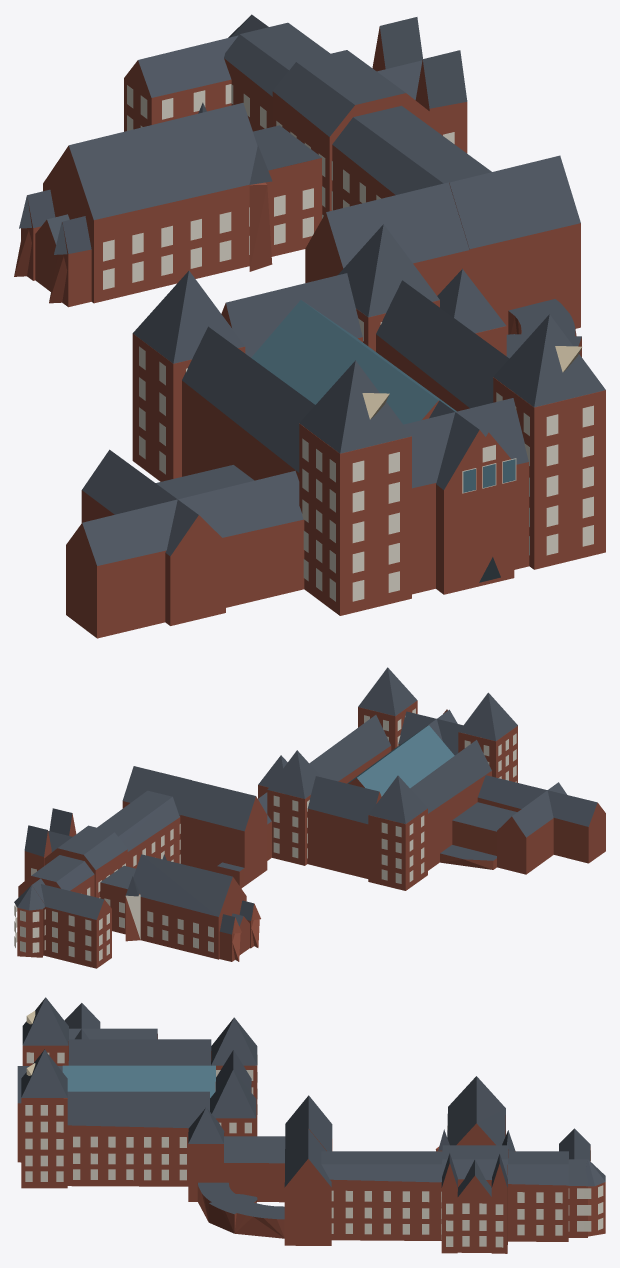
File: wereldmuseum-amsterdam.lod2.glb
3 renders of one model, top to bottom at view 1: azimuth 30°, elevation 25°; view 2: azimuth 150°, elevation 25°; view 3: azimuth 270°, elevation 25°, orthographic. The views are drawn at different scales.
Parts seen in each view (by area): view 1: lod2; view 2: lod2; view 3: lod2.
Boxes of the visible parts, <box> form: lod2: <box>14,14,605,638</box>; lod2: <box>14,667,605,968</box>; lod2: <box>17,997,605,1253</box>.
Size of the model in its own units: 129 by 40.03 by 166.
